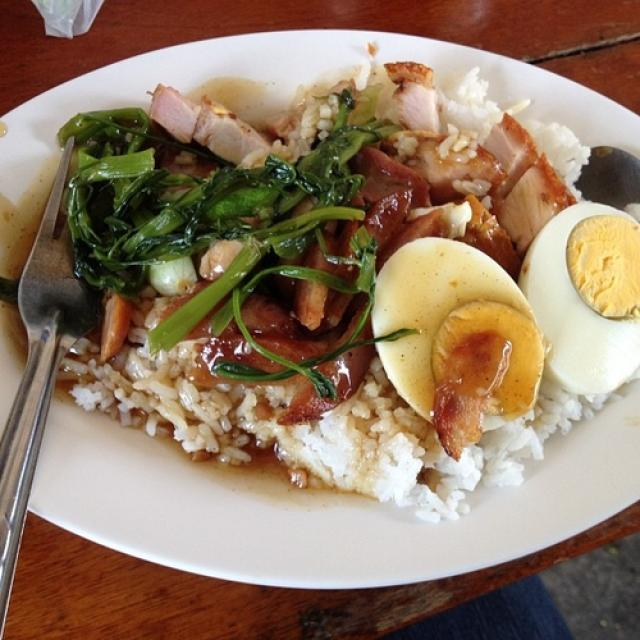猪肉菜式: (30, 48, 620, 578)
